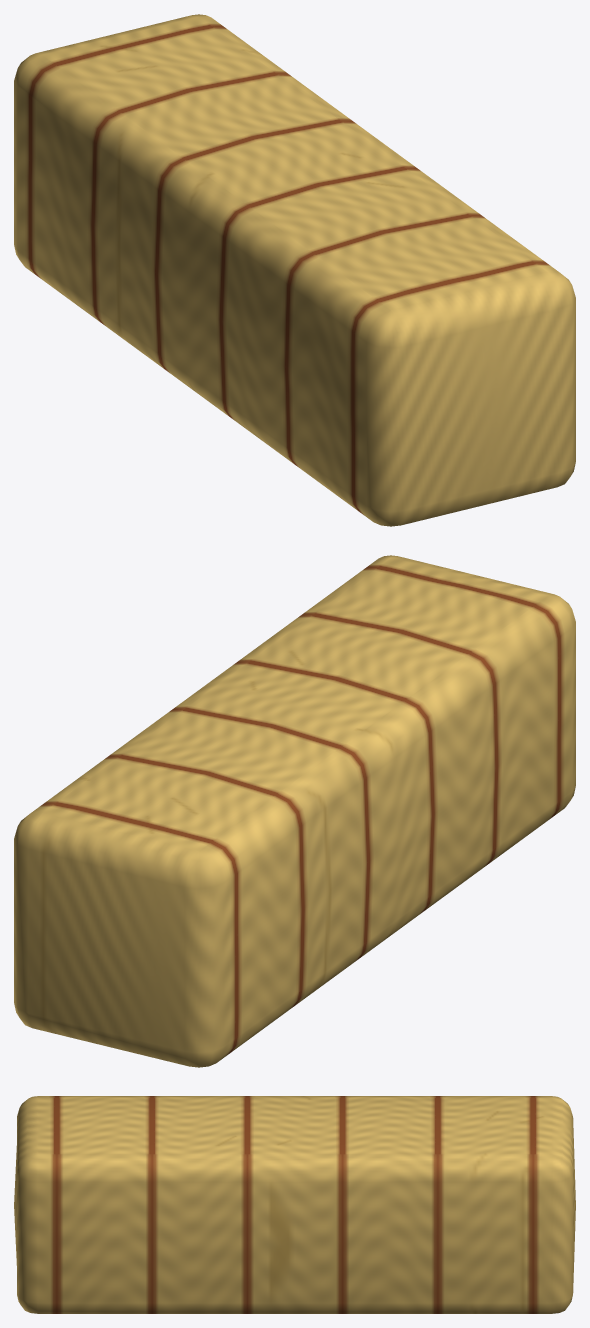
File: HayBale_3x1.fbx
The picture shows the model from 3 angles, top to bottom: view 1: azimuth 30°, elevation 25°; view 2: azimuth 150°, elevation 25°; view 3: azimuth 270°, elevation 25°; orthographic projection. The views are drawn at different scales.
Visible parts, largest first — view 1: HayBale_3x1; view 2: HayBale_3x1; view 3: HayBale_3x1.
Part boxes in pixels (x1,y1,x2,y2): HayBale_3x1: (14,14,575,526); HayBale_3x1: (14,555,575,1067); HayBale_3x1: (14,1096,575,1313).
Bounding box in the file's own units: 0.95 × 0.9071 × 2.95.
Materials: 1 (1 with a texture image).
